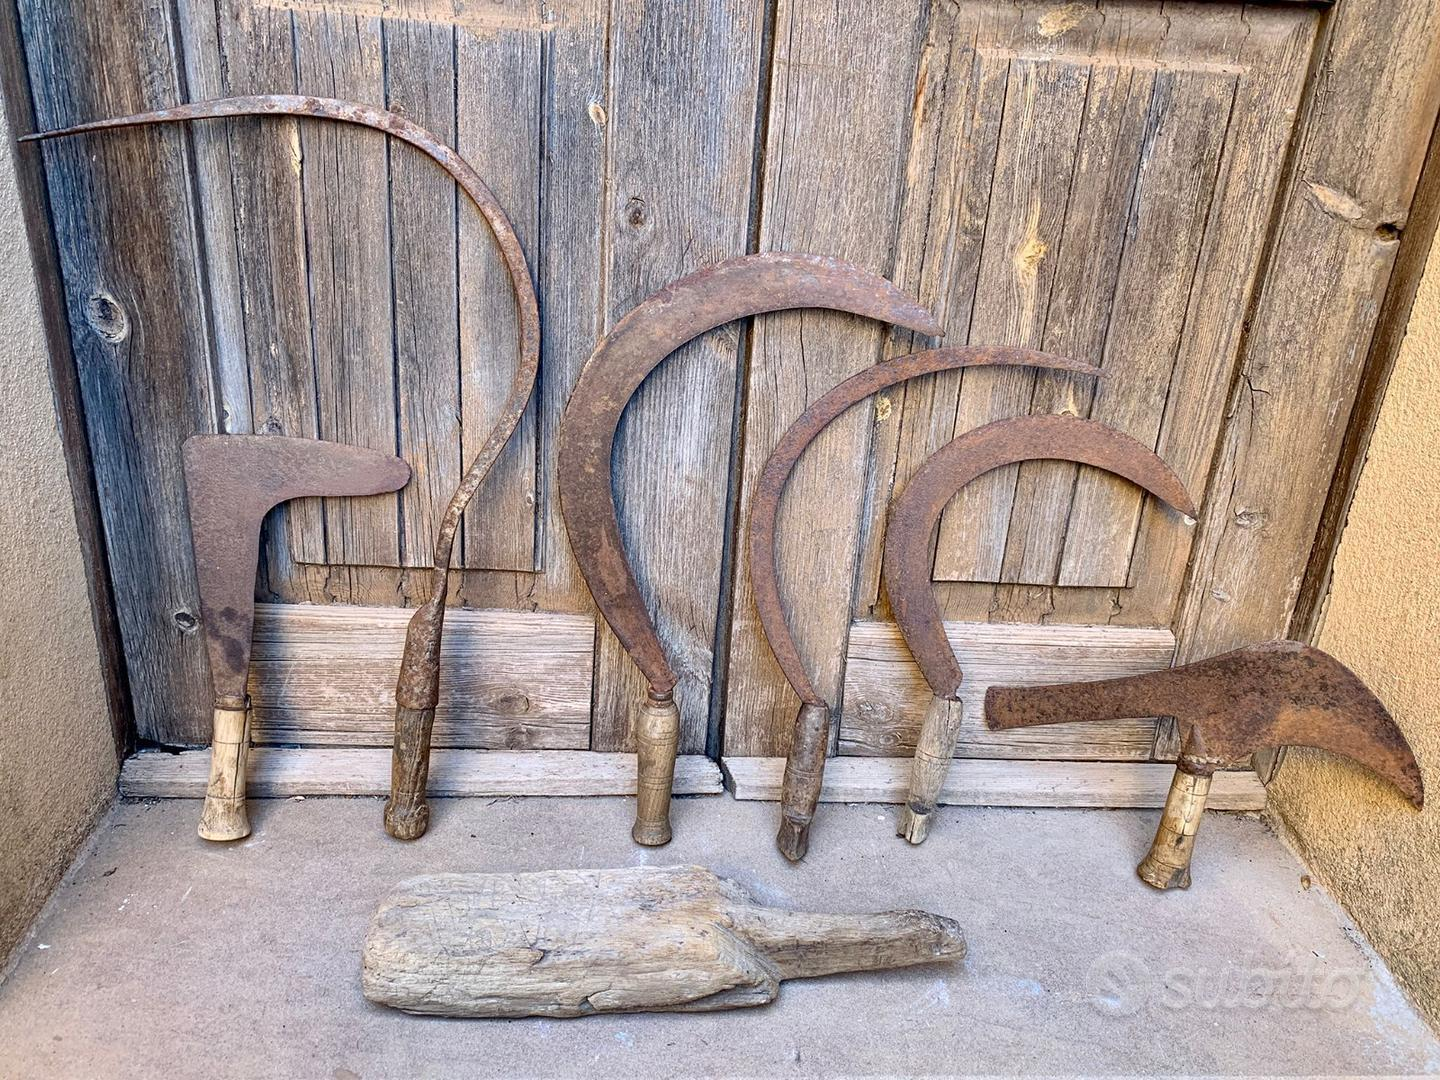foice: (20, 96, 537, 661), (559, 252, 937, 844), (747, 346, 1101, 861), (183, 434, 414, 841)
